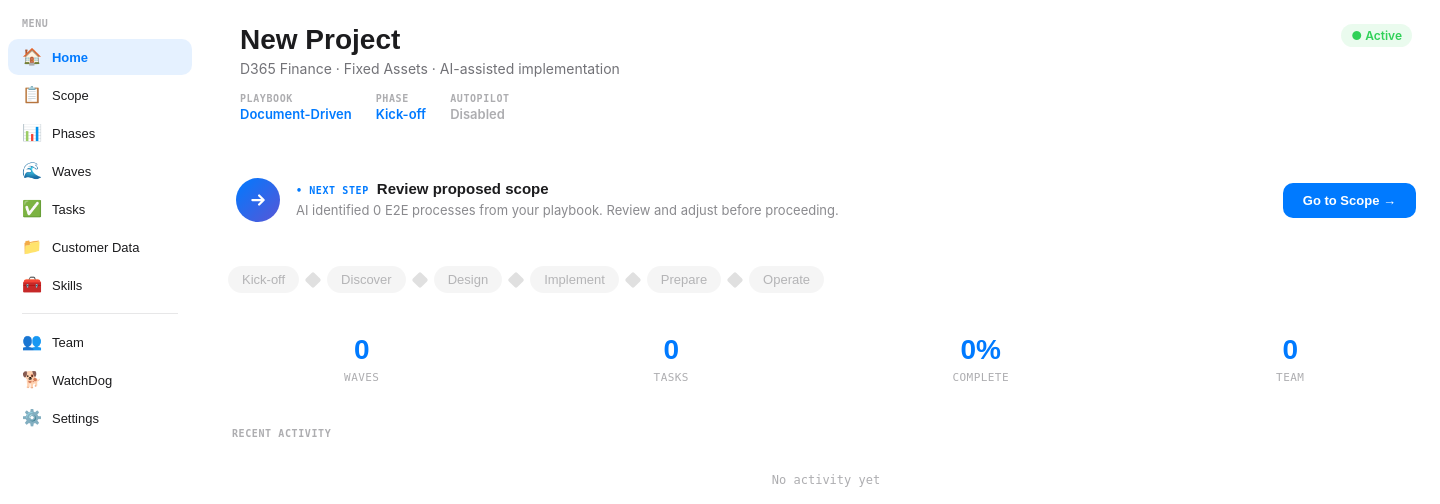
Test: DashboardContent › navigates to team page via sidebar
The width and height of the screenshot is (1440, 504).
Click the button with test id "sidebar-nav-team": point(100, 342) [8,324,192,360]
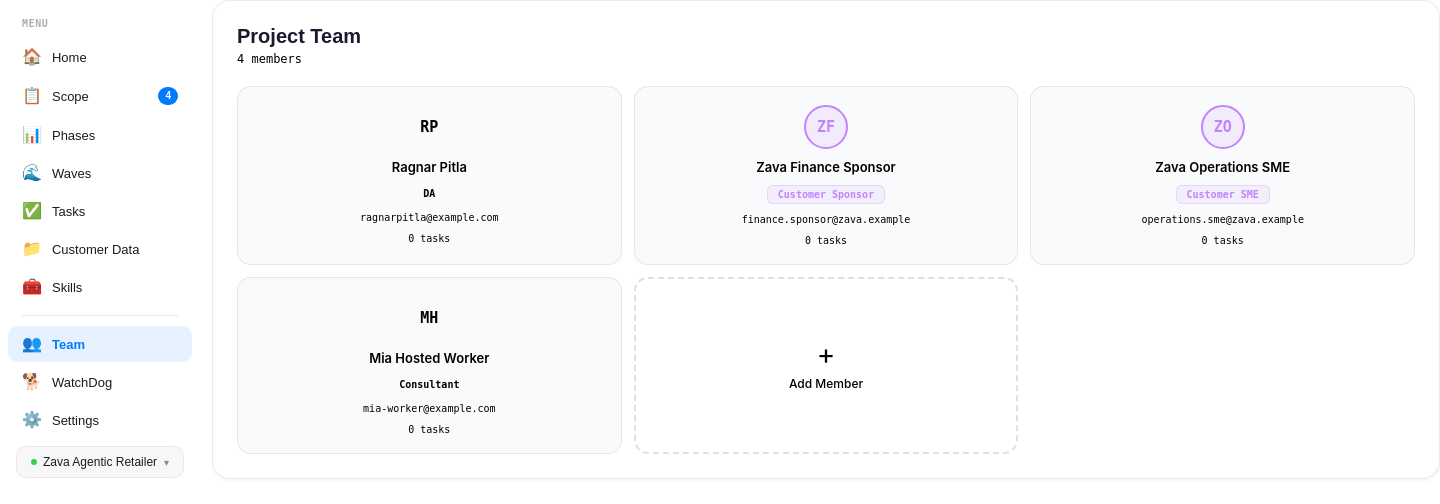
Now the element with test id "team-page" is shown
